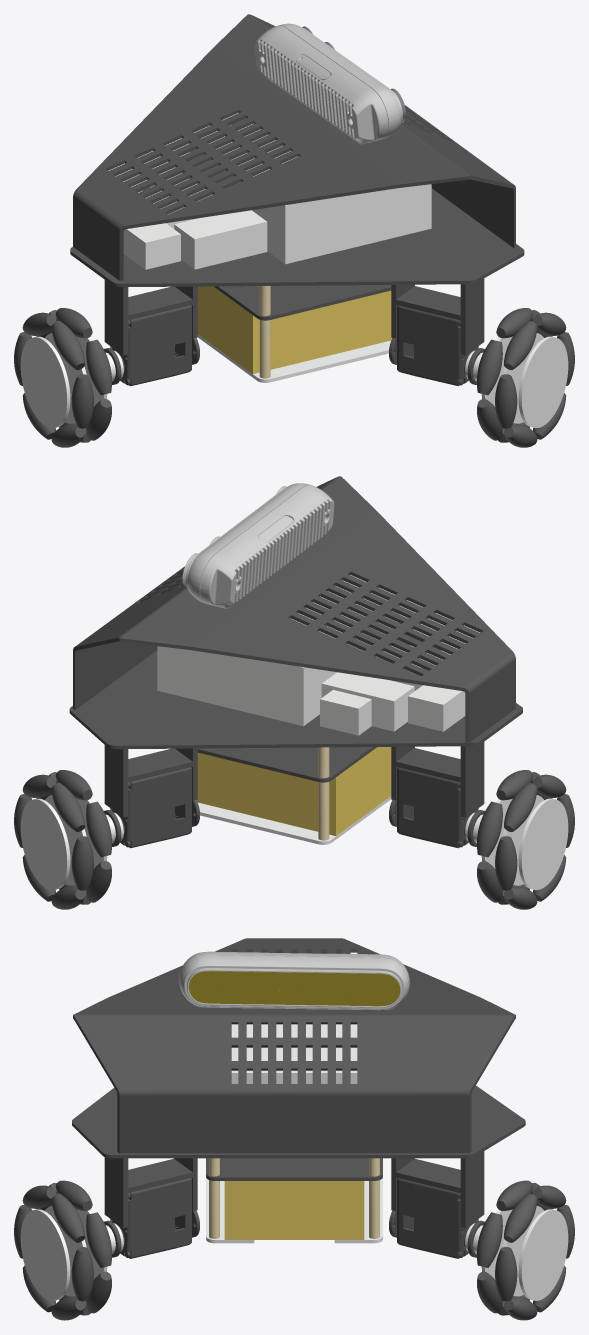
The model's file is kaya_robot.glb.
3 renders of one model, top to bottom at view 1: azimuth 30°, elevation 25°; view 2: azimuth 150°, elevation 25°; view 3: azimuth 270°, elevation 25°, orthographic.
Bounding box in the file's own units: 0.263 × 0.189 × 0.3015.
